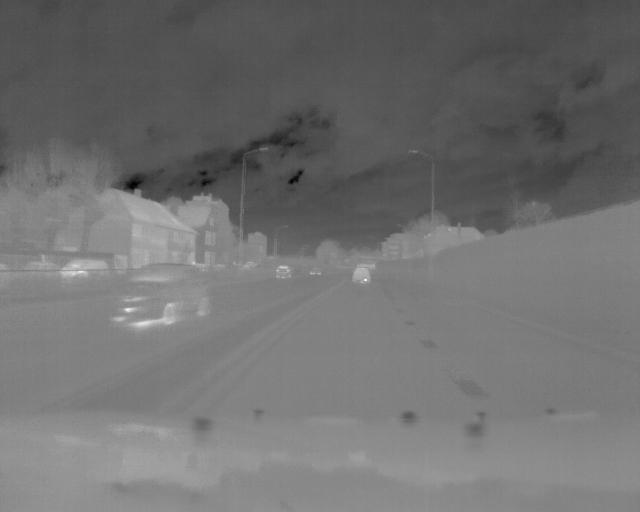car: (106, 260, 213, 329), (352, 265, 373, 286), (273, 264, 292, 279)
